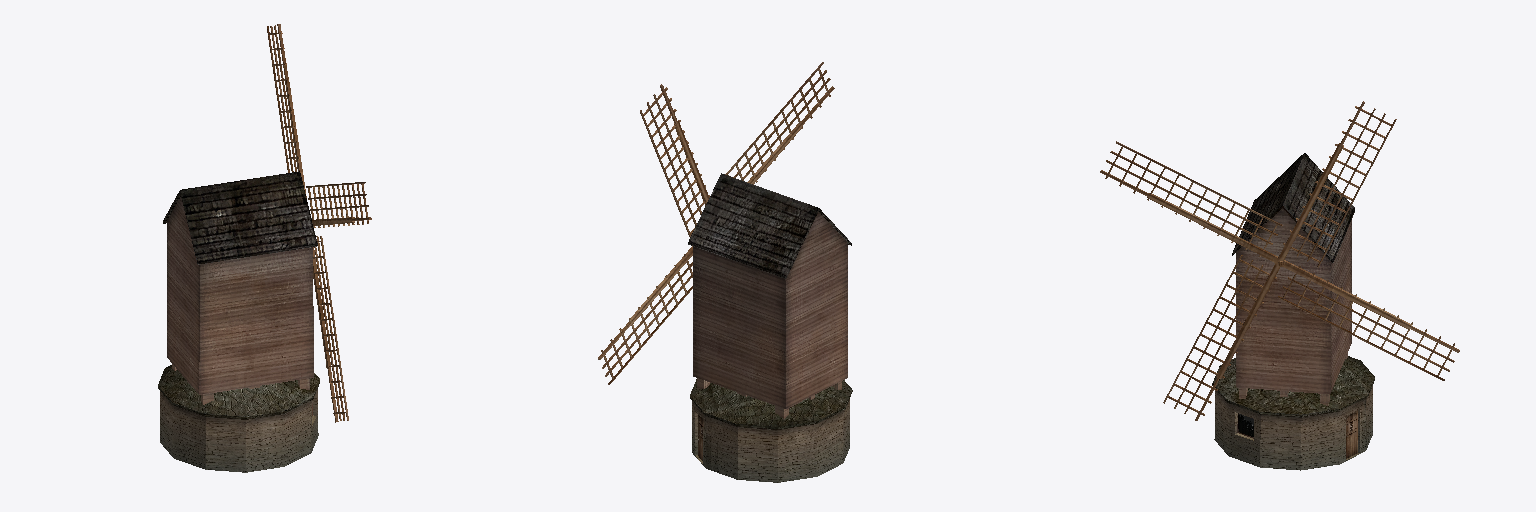
The picture shows the model from 3 angles: view 1: azimuth 30°, elevation 25°; view 2: azimuth 150°, elevation 25°; view 3: azimuth 270°, elevation 25°; orthographic projection.
Parts seen in each view (by area): view 1: windmill_tower, windmill_bottom, windmill_wheel; view 2: windmill_tower, windmill_bottom, windmill_wheel; view 3: windmill_tower, windmill_bottom, windmill_wheel.
Boxes of the visible parts, x1=… form: windmill_tower: x1=163, y1=171, x2=317, y2=404; windmill_bottom: x1=158, y1=365, x2=319, y2=472; windmill_wheel: x1=267, y1=24, x2=371, y2=422; windmill_tower: x1=688, y1=173, x2=851, y2=418; windmill_bottom: x1=690, y1=379, x2=852, y2=482; windmill_wheel: x1=598, y1=62, x2=834, y2=384; windmill_tower: x1=1232, y1=153, x2=1354, y2=405; windmill_bottom: x1=1212, y1=356, x2=1374, y2=470; windmill_wheel: x1=1100, y1=101, x2=1459, y2=420.
Size of the model in its own units: 3.17 by 6.98 by 6.14.
3 materials, 3 textured.